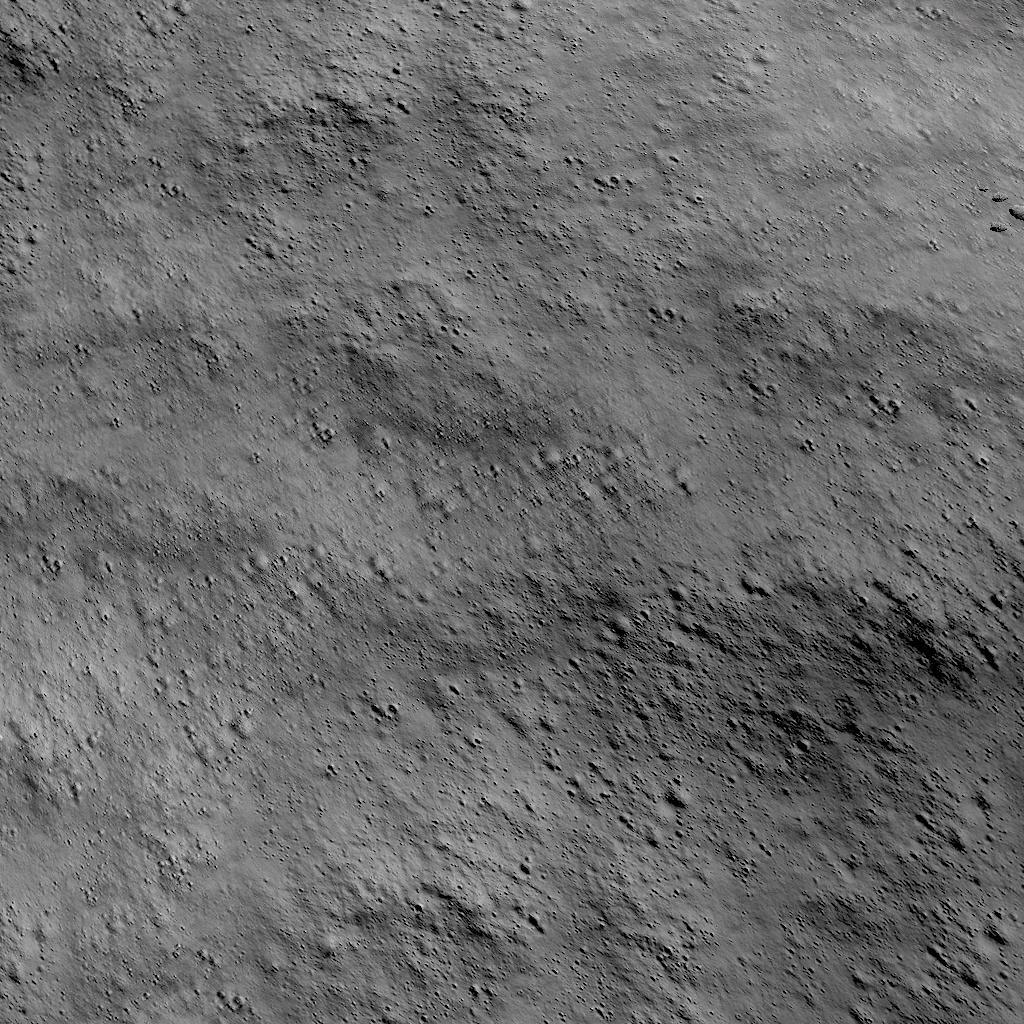Plan surface: (0, 83, 989, 1024)
